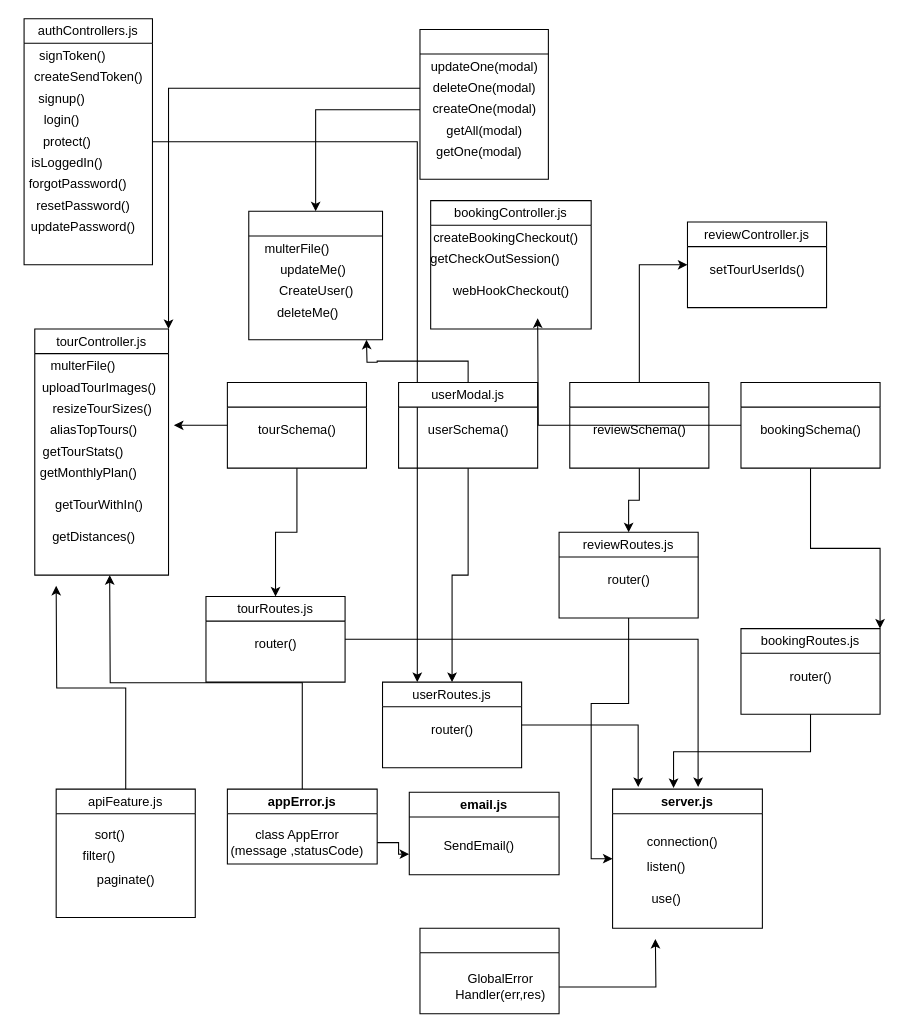
The diagram is 907 pixels wide and 1033 high, and some of its shapes have lost their labels. Each missing label, with the box of its shape:
bookingModal.js: (740, 381, 880, 468)
errorController.jsx: (419, 927, 559, 1014)
handleFactory.js: (419, 28, 548, 179)
reviewModal.js: (569, 381, 709, 468)
tourModal.js: (226, 381, 366, 468)
userController.js: (248, 210, 383, 340)
